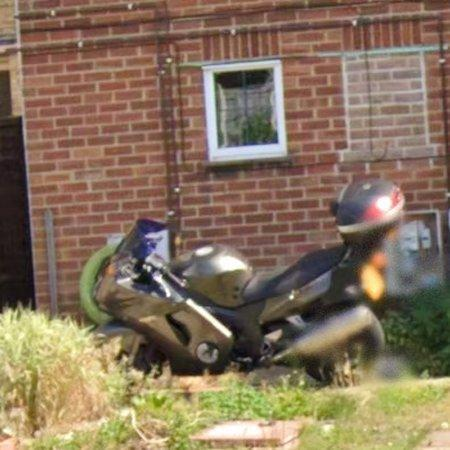motorcycles: (80, 180, 405, 382)
